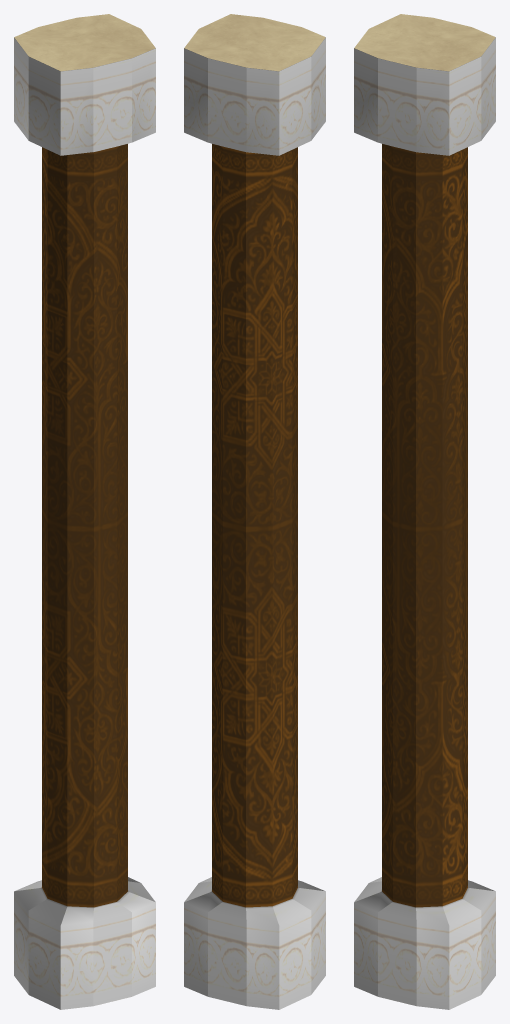
The model's file is sm_pillar2.fbx.
The picture shows the model from 3 angles, left to right: view 1: azimuth 30°, elevation 25°; view 2: azimuth 150°, elevation 25°; view 3: azimuth 330°, elevation 25°; orthographic projection.
Visible parts, largest first — view 1: Pillar2; view 2: Pillar2; view 3: Pillar2.
Part boxes in pixels (<box>): Pillar2: <box>14,14,155,1009</box>; Pillar2: <box>184,14,325,1009</box>; Pillar2: <box>354,14,495,1009</box>.
Size of the model in its own units: 0.3766 by 3 by 0.3204.
